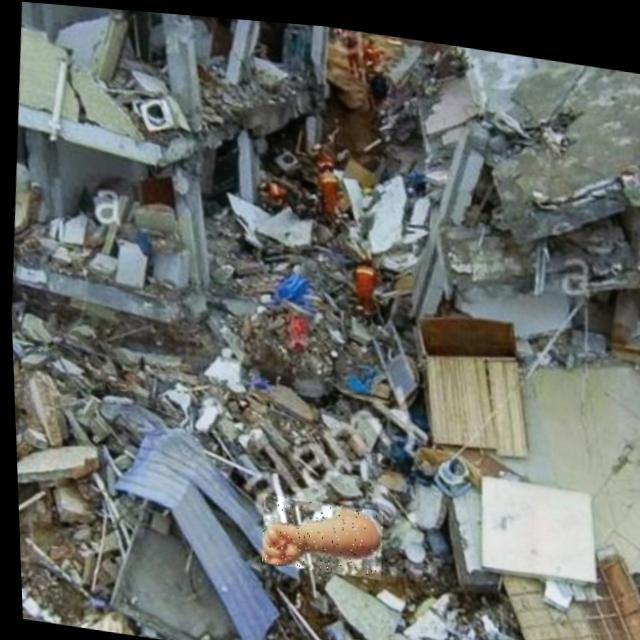Person in Rubble: (255, 489, 381, 574)
